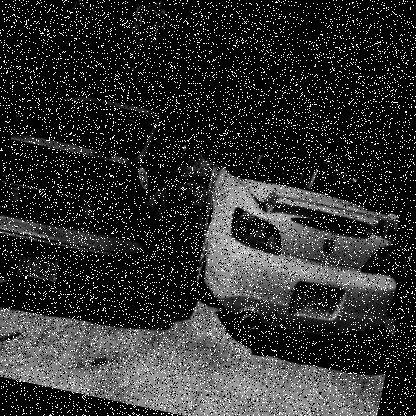Car: (177, 126, 415, 359), (0, 82, 193, 306)
